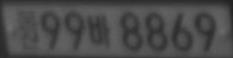6: (170, 11, 193, 52)
8: (144, 11, 169, 51), (119, 10, 143, 51)
9: (194, 11, 217, 53), (63, 10, 86, 51), (40, 10, 62, 50)
바: (87, 13, 111, 46)
울산_V: (15, 9, 39, 50)
